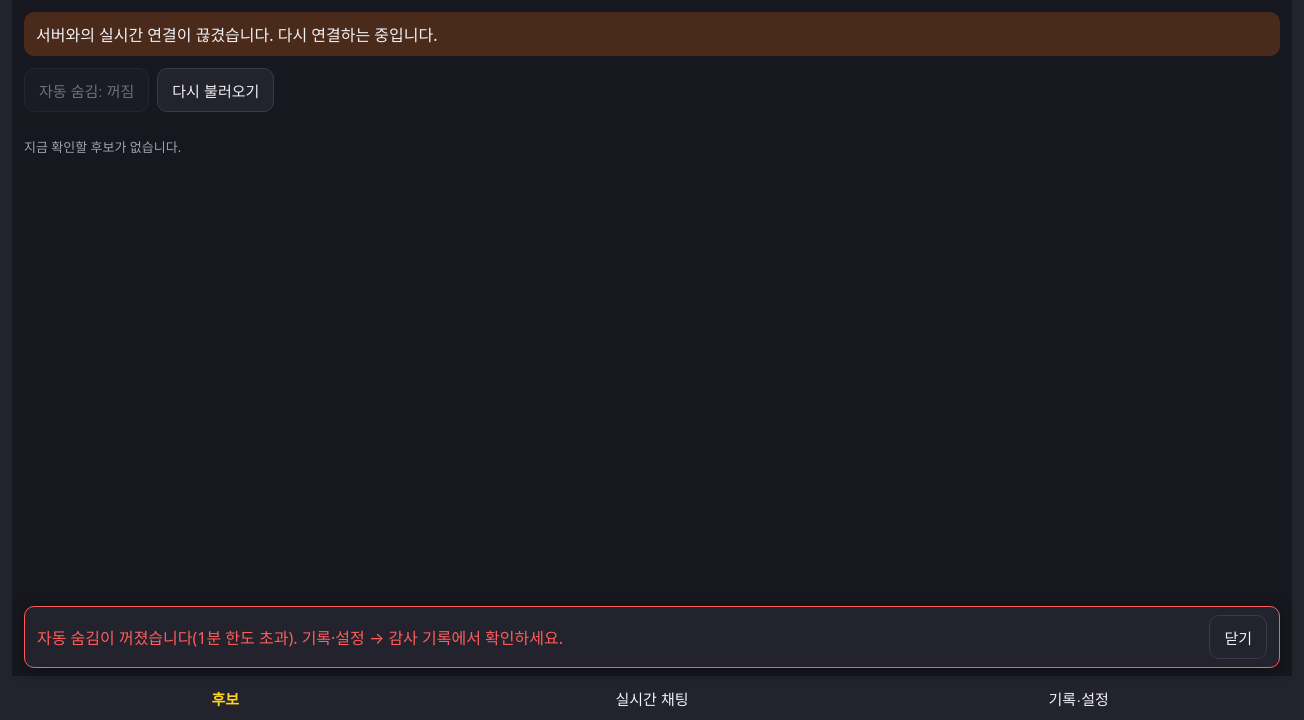
Scenario: MainScreen 시스템이 자동 숨김을 껐을 때(F8·B19-3, 스모크 S2) › 1분 한도 초과로 꺼지면 그 이유를 밝힌 안내를 목록을 밀지 않는 층에 띄우고, 닫으면 사라진다
This screenshot has width=1304, height=720.
Expected: the element showing "자동 숨김이 꺼졌습니다(1분 한도 초과). 기록·설정 → 감사 기록에서 확인하세요. 닫기" is shown, left=24, top=606, right=1280, bottom=668
Click the button "닫기" at (1238, 637), box left=1209, top=615, right=1267, bottom=659
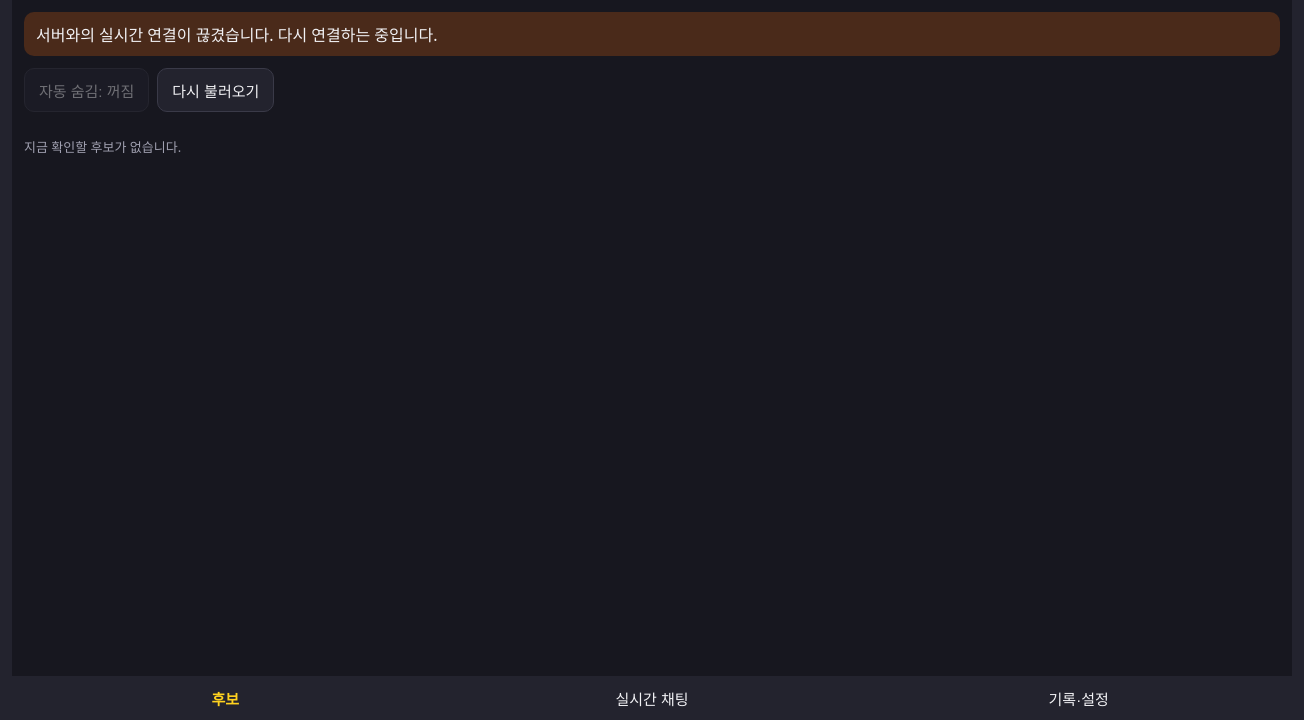
Now the message "자동 숨김이 꺼졌습니다(1분 한도 초과). 기록·설정 → 감사 기록에서 확인하세요. 닫기" is gone
